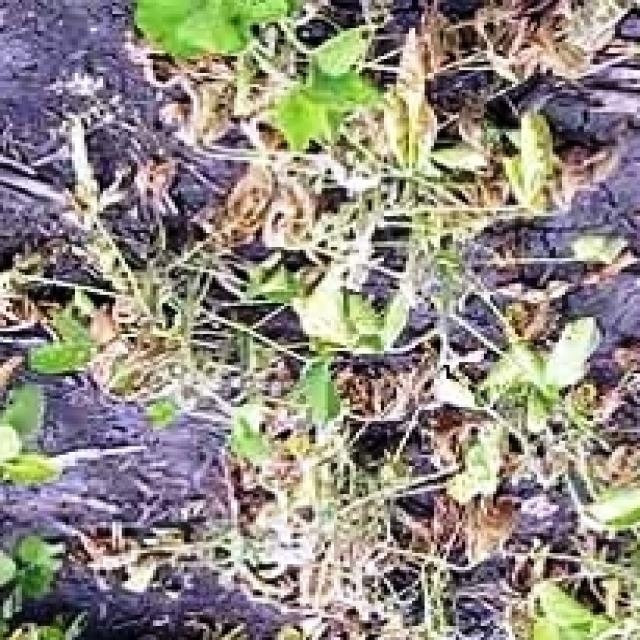Fusarium Wilt: (19, 3, 637, 640)
